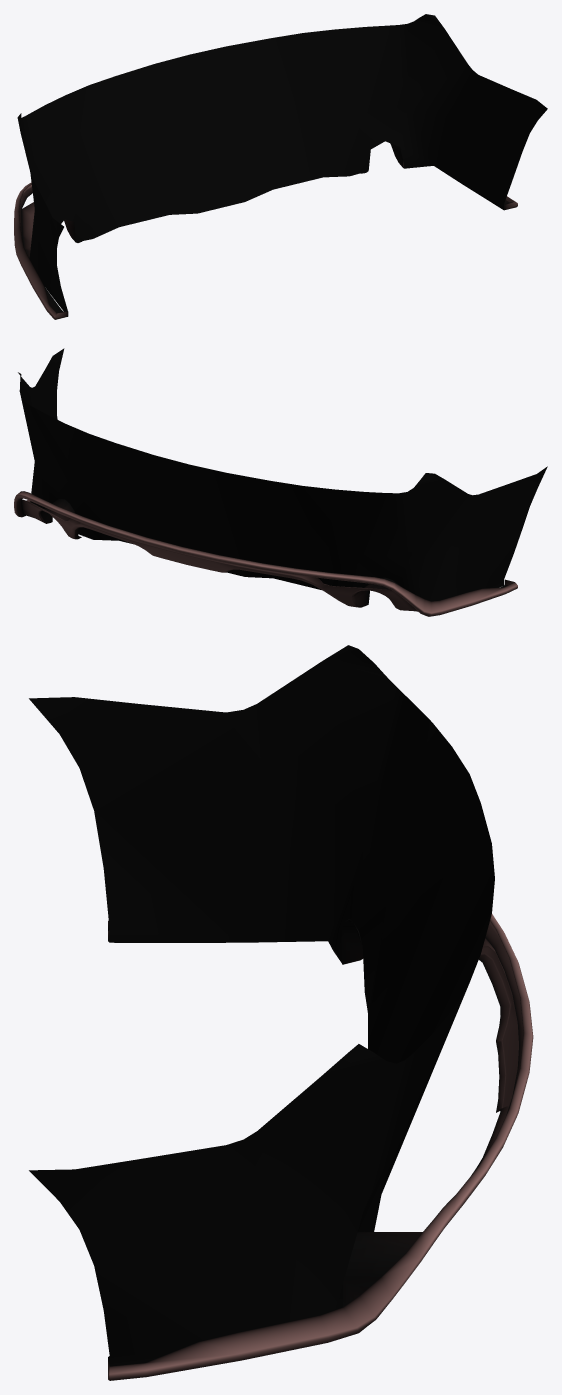
Rendered from Mustang16_RB_02_Trim.fbx.
3 renders of one model, top to bottom at view 1: azimuth 30°, elevation 25°; view 2: azimuth 150°, elevation 25°; view 3: azimuth 270°, elevation 25°, orthographic. The views are drawn at different scales.
Visible parts, largest first — view 1: Mustang16_RB_02_Trim; view 2: Mustang16_RB_02_Trim; view 3: Mustang16_RB_02_Trim.
Part boxes in pixels (bbox=[...]): Mustang16_RB_02_Trim: bbox=[14, 14, 547, 319]; Mustang16_RB_02_Trim: bbox=[14, 348, 547, 616]; Mustang16_RB_02_Trim: bbox=[29, 645, 533, 1380].
Bounding box in the file's own units: 187 × 57.07 × 84.42.
